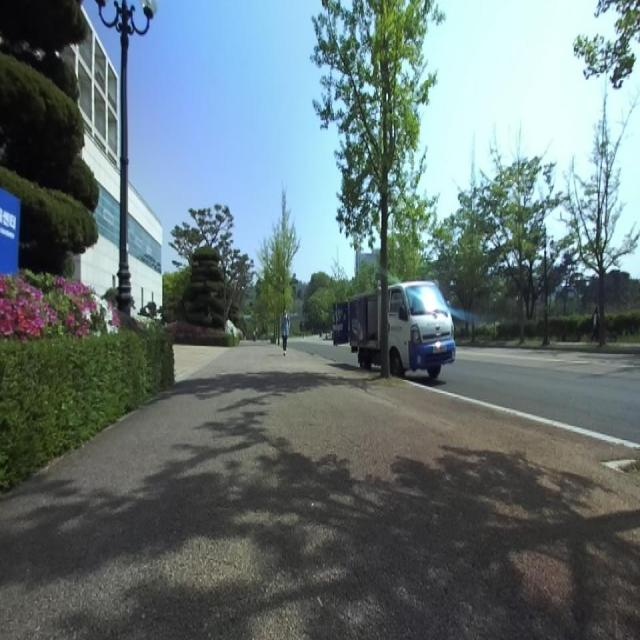sidewalk: (1, 343, 640, 638), (407, 381, 640, 449)
